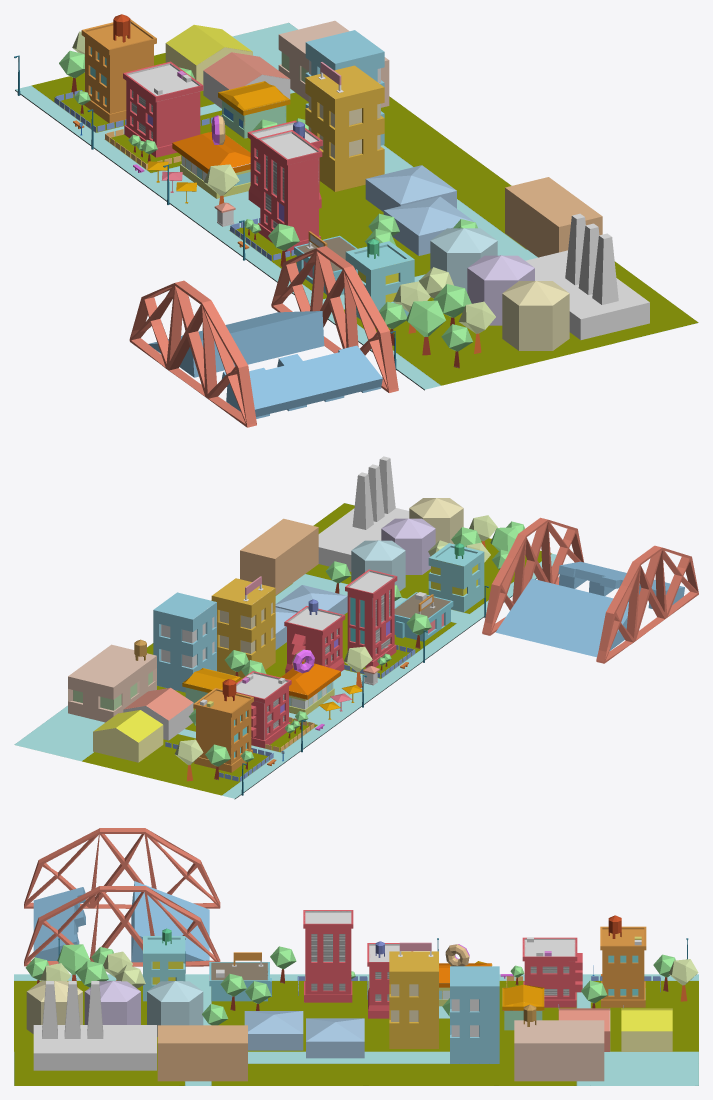
File: city_built_2.glb
3 views of the same model, one above another, from view 1: azimuth 30°, elevation 25°; view 2: azimuth 150°, elevation 25°; view 3: azimuth 270°, elevation 25° (orthographic). The views are drawn at different scales.
Parts seen in each view (by area): view 1: ground, bridge.018, second_plan building, bridge.001, bridge.014, building.003, building, factory building, building.001, bridge.016, Cylinder building.002, factory building.006 (+23 smaller); view 2: ground, bridge.016, bridge.018, second_plan building.001, third_plan building, second_plan building, bridge.001, factory building, building.003, building.001, building.005, building.002 (+17 smaller); view 3: ground, third_plan building, factory building, factory building.006, second_plan building.001, second_plan building, building.003, bridge.018, bridge.001, building, building.001, bridge.016 (+27 smaller).
Part boxes in pixels (left/top/right/bottom): ground: left=15, top=22, right=698, bottom=390; bridge.018: left=129, top=280, right=256, bottom=427; second_plan building: left=305, top=65, right=384, bottom=191; bridge.001: left=271, top=246, right=398, bottom=392; bridge.014: left=221, top=345, right=382, bottom=418; building.003: left=257, top=130, right=322, bottom=252; building: left=123, top=61, right=203, bottom=157; factory building: left=505, top=177, right=602, bottom=257; building.001: left=81, top=19, right=156, bottom=123; bridge.016: left=148, top=311, right=324, bottom=377; Cylinder building.002: left=502, top=281, right=569, bottom=350; factory building.006: left=525, top=250, right=649, bottom=339; ground: left=14, top=503, right=556, bottom=799; bridge.016: left=495, top=578, right=628, bottom=657; bridge.018: left=596, top=545, right=698, bottom=663; second_plan building.001: left=153, top=592, right=216, bottom=692; third_plan building: left=68, top=644, right=156, bottom=722; second_plan building: left=211, top=578, right=275, bottom=677; bridge.001: left=482, top=517, right=583, bottom=635; factory building: left=240, top=518, right=318, bottom=594; building.003: left=345, top=569, right=397, bottom=667; building.001: left=193, top=688, right=253, bottom=772; building.005: left=428, top=543, right=484, bottom=612; building.002: left=284, top=606, right=345, bottom=673; ground: left=14, top=974, right=698, bottom=1085; third_plan building: left=514, top=1020, right=604, bottom=1081; factory building: left=157, top=1025, right=247, bottom=1081; factory building.006: left=33, top=1025, right=156, bottom=1070; second_plan building.001: left=450, top=966, right=499, bottom=1063; second_plan building: left=389, top=951, right=438, bottom=1048; building.003: left=303, top=910, right=353, bottom=1002; bridge.018: left=24, top=828, right=220, bottom=908; bridge.001: left=24, top=886, right=220, bottom=966; building: left=522, top=937, right=582, bottom=1007; building.001: left=600, top=926, right=646, bottom=1007; bridge.016: left=131, top=881, right=209, bottom=962.
Size of the model in its own units: 20.39 by 4.96 by 32.49.
Materials: 41 (21 with a texture image).
